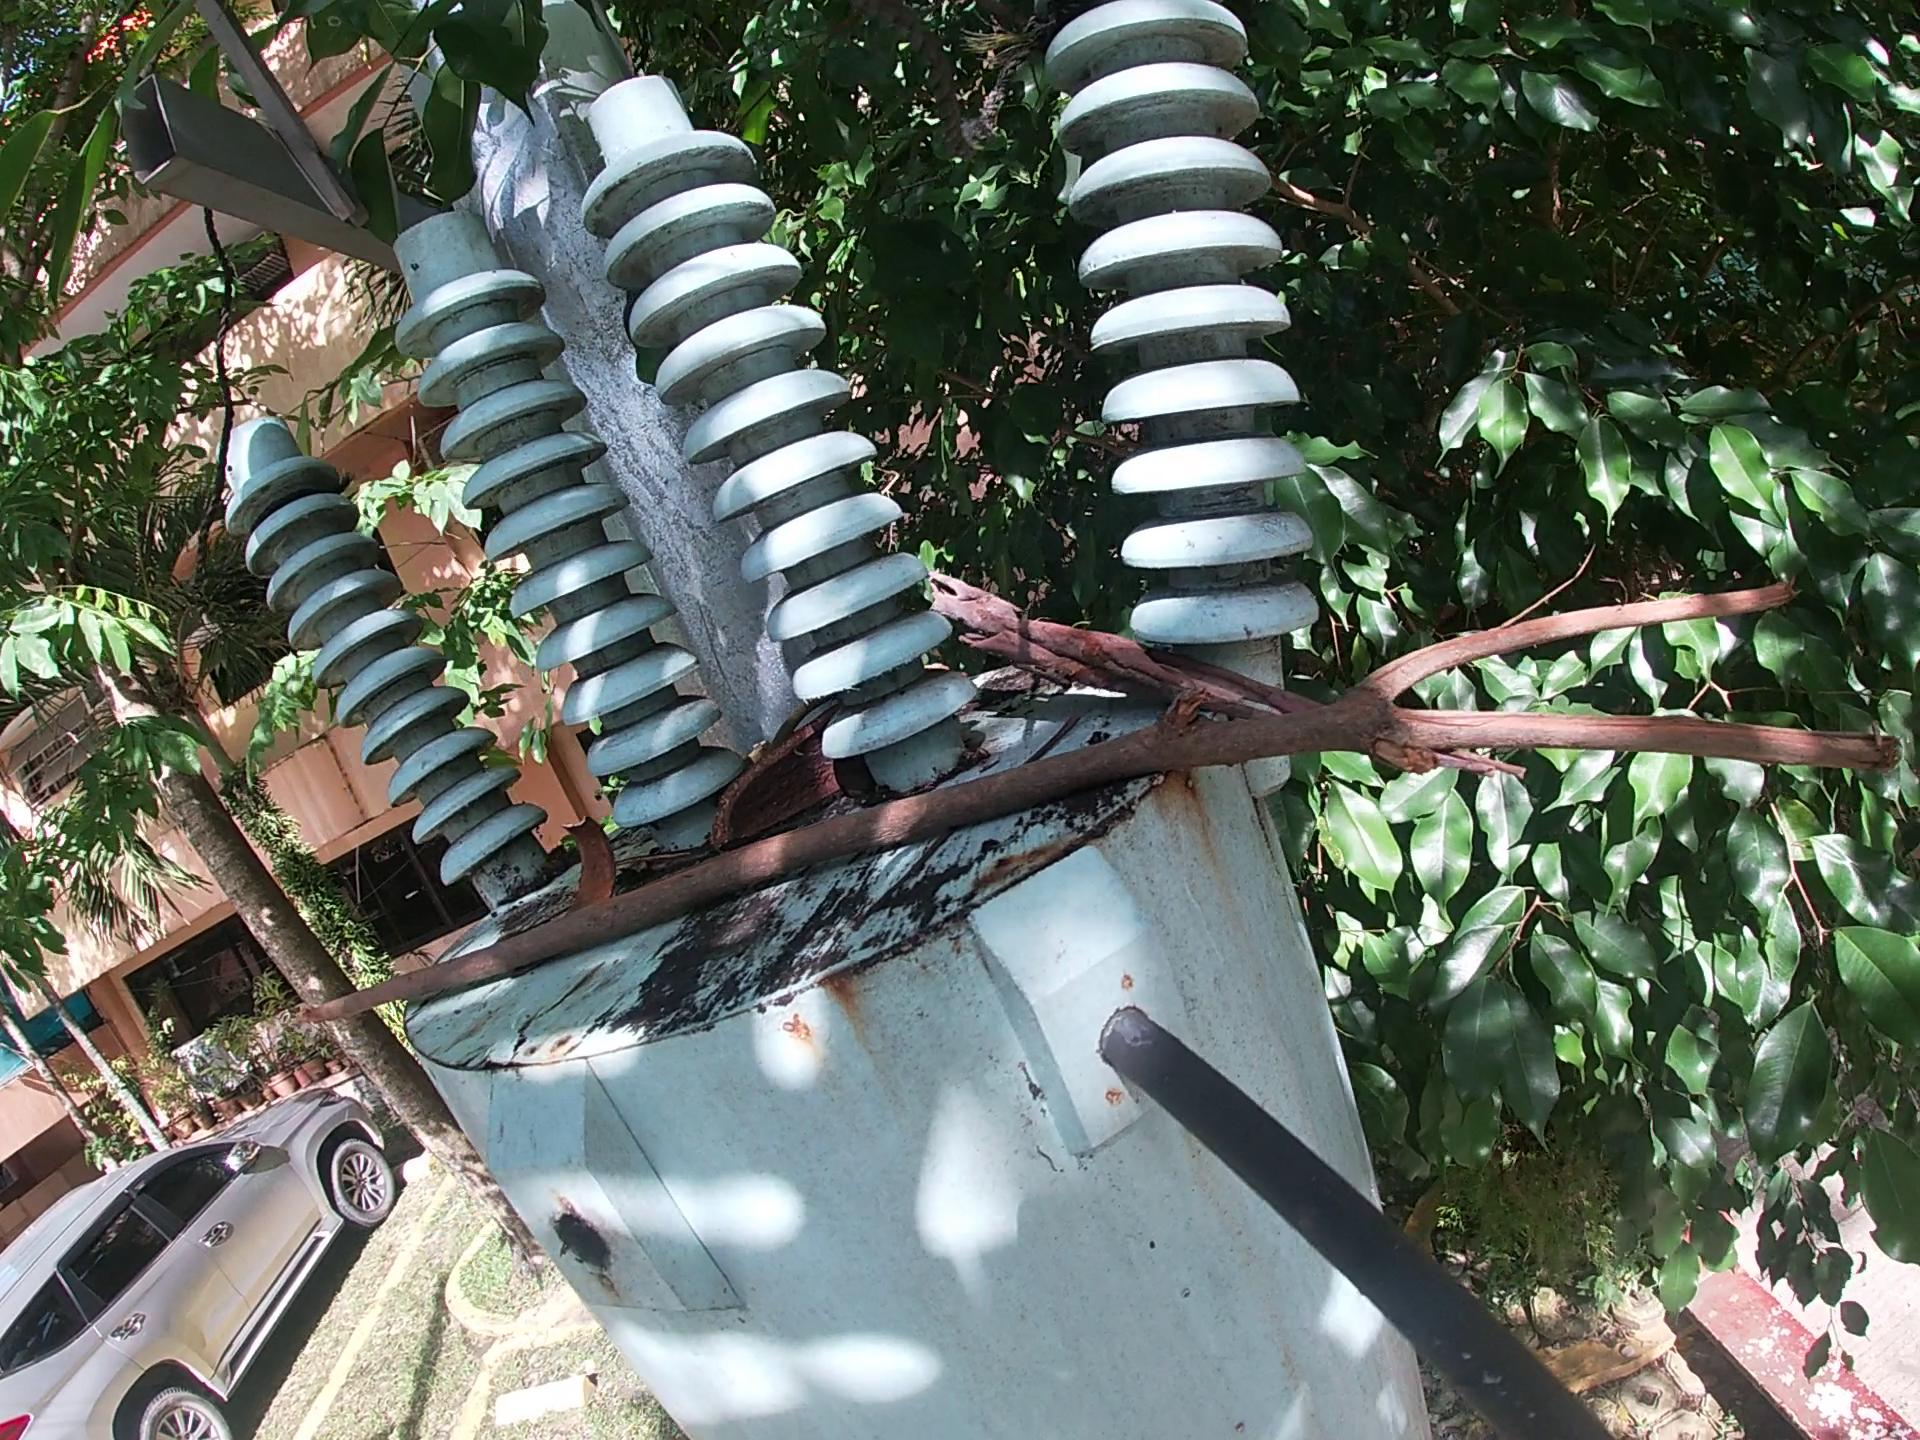mahogany fruit: (705, 700, 850, 858), (555, 811, 615, 921)
tree branch: (289, 573, 1908, 1038), (919, 563, 1534, 793)
